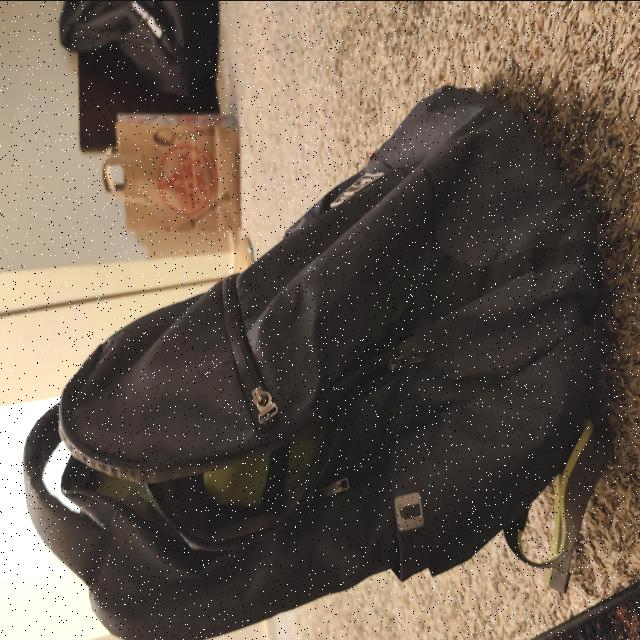bag: (29, 76, 538, 634)
